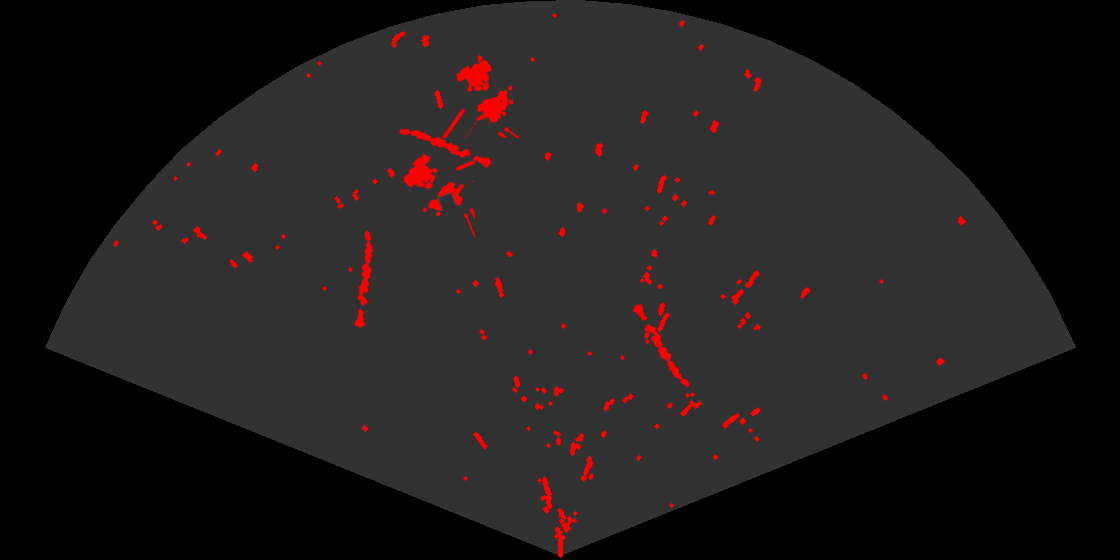cage: (440, 58, 521, 138), (402, 152, 475, 237)
chain: (632, 302, 692, 389), (398, 127, 493, 169), (353, 229, 374, 330)
